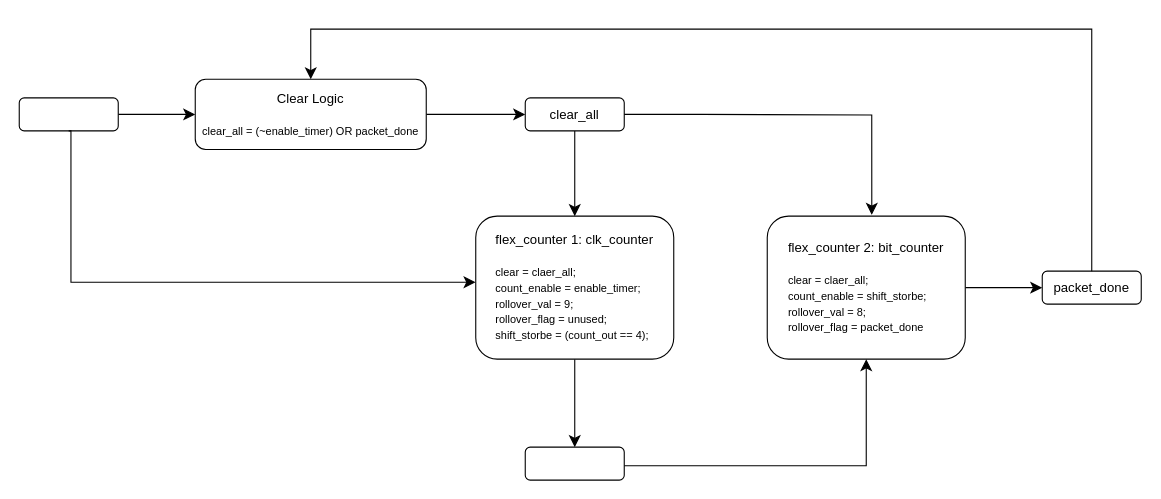
The diagram is 1161 pixels wide and 499 high, and some of its shapes have lost their labels. The shapes that lost their labels are listed below. From the top down, each one's centre as x and y in pixels, then its label:
At [68,114]: "enable_timer".
At [574,463]: "shift_strobe".
